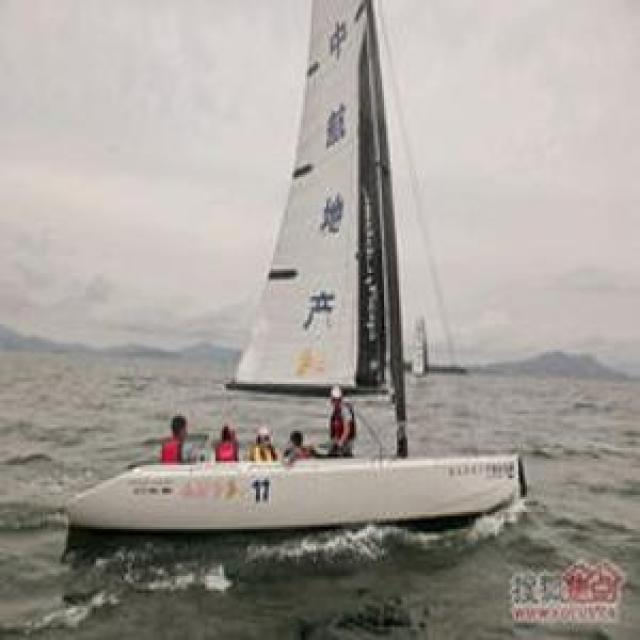sailboat: (54, 0, 554, 547)
